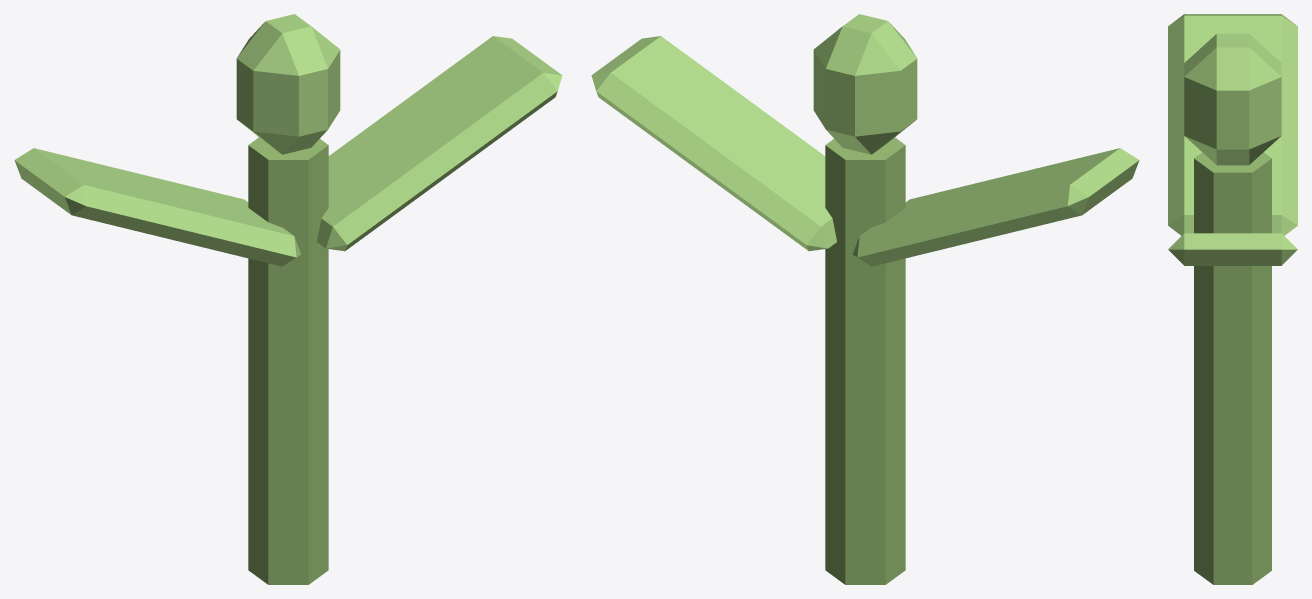
The model's file is crop_seedling.glb.
3 renders of one model, left to right at view 1: azimuth 30°, elevation 25°; view 2: azimuth 150°, elevation 25°; view 3: azimuth 270°, elevation 25°, orthographic. The views are drawn at different scales.
Parts seen in each view (by area): view 1: Seedling; view 2: Seedling; view 3: Seedling.
Part boxes in pixels (bbox=[...]): Seedling: bbox=[14, 14, 562, 584]; Seedling: bbox=[591, 14, 1139, 584]; Seedling: bbox=[1168, 14, 1297, 584].
Size of the model in its own units: 0.1716 by 0.18 by 0.04.
